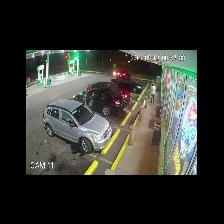person: (71, 143, 85, 158), (120, 94, 126, 117), (150, 83, 155, 104)
